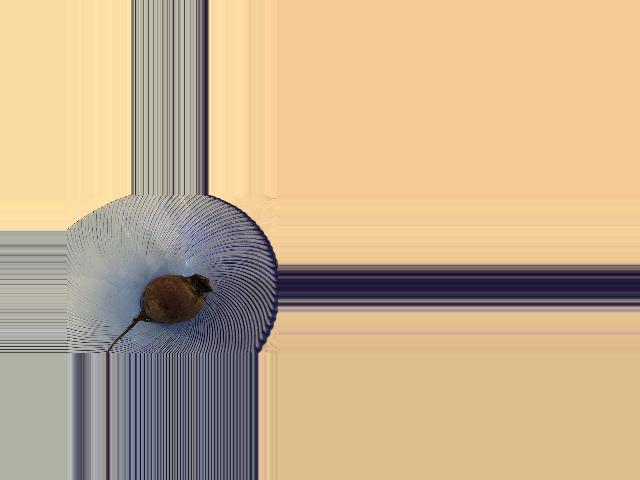beet: (107, 275, 212, 354)
